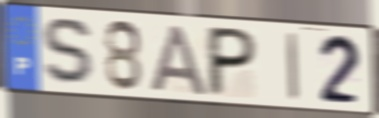2: (315, 31, 364, 108)
8: (102, 18, 145, 94)
A: (148, 23, 211, 98)
I: (284, 30, 301, 104)
P: (204, 24, 260, 98)
S: (39, 15, 99, 90)
